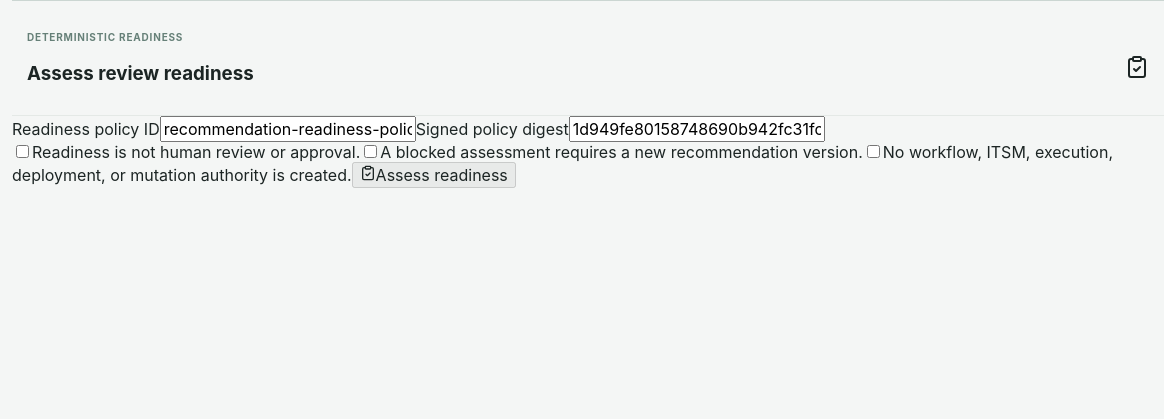
RecommendationReadinessPanel › assesses readiness without creating review or operational authority
The image size is (1164, 419).
Expected: the button "Assess readiness" is disabled, [352,162,516,188]
Click the checkbox labelled "Readiness is not human review or approval.": point(22, 152) [16,145,29,158]
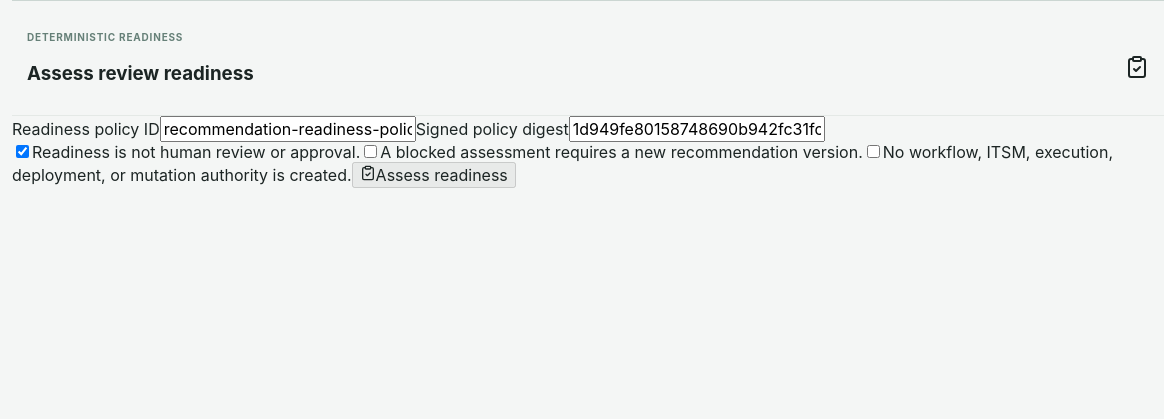
Click the checkbox labelled "A blocked assessment requires a new recommendation version.": point(371, 152) [364,145,377,158]
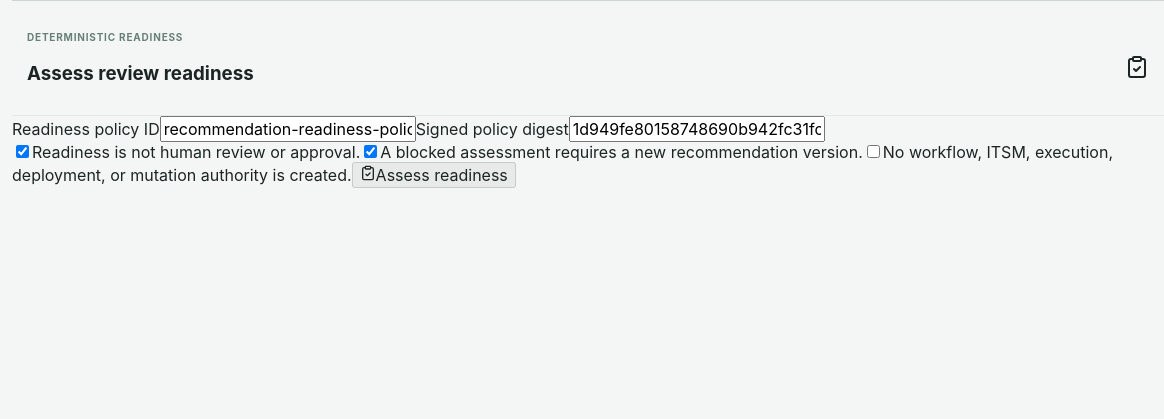
Click the checkbox labelled "No workflow, ITSM, execution, deployment, or mutation authority is created.": point(873, 152) [867,145,880,158]
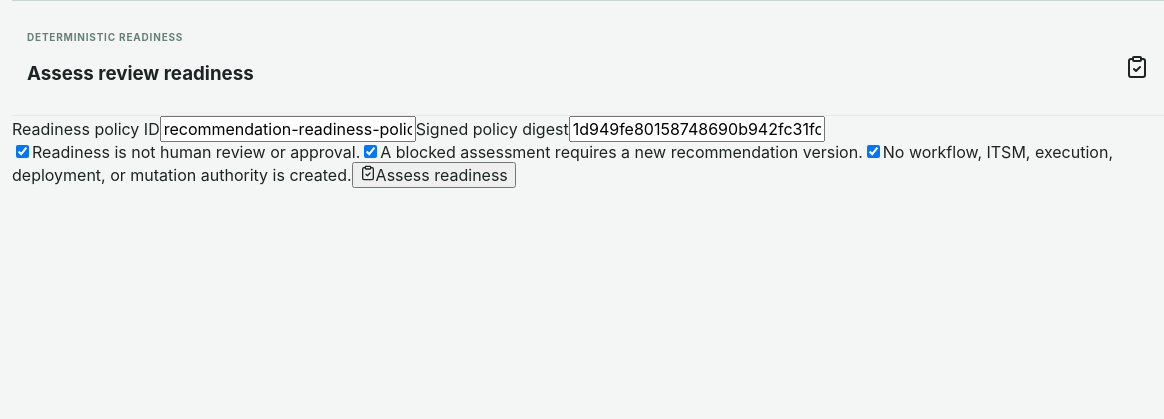
Expected: the button "Assess readiness" is enabled
Click the button "Assess readiness": point(434, 175) [352,162,516,188]
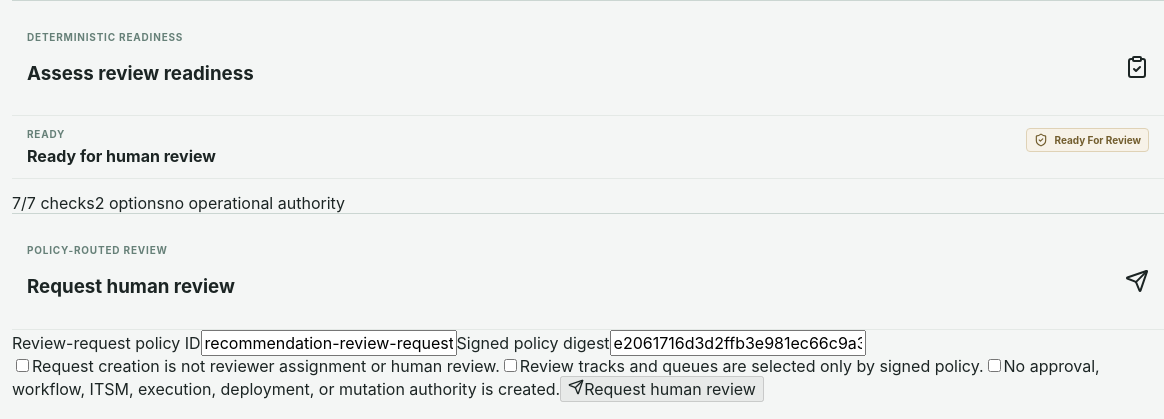
Expected: the text "Ready for human review" is shown, [27,146,216,166]
Expected: the text "7/7 checks" is shown, [12,193,95,213]
Expected: the text "no operational authority" is shown, [165,193,345,213]
